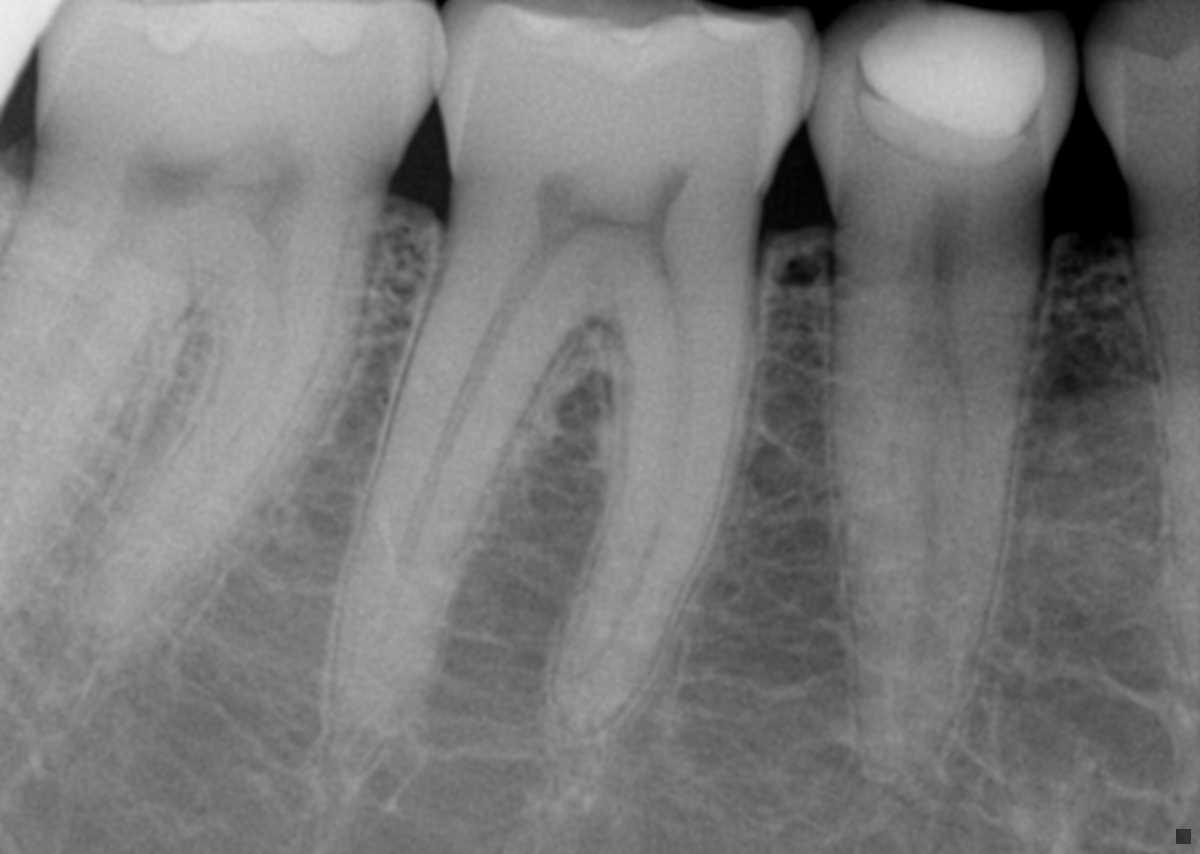Distal Canal: (377, 219, 583, 649)
Distal Root: (323, 206, 591, 741), (0, 164, 192, 617)
Main Canal: (898, 269, 957, 755)
Main Root: (829, 252, 1054, 784), (1137, 251, 1200, 675)
Mesial Canal: (564, 236, 696, 693)
Mesial Root: (74, 196, 385, 642), (546, 230, 756, 748)
